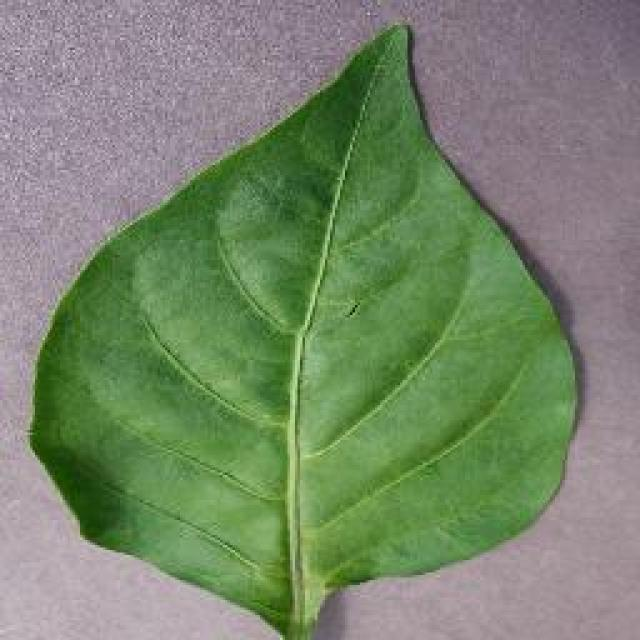Chilli_Healthy: (25, 18, 580, 638)
